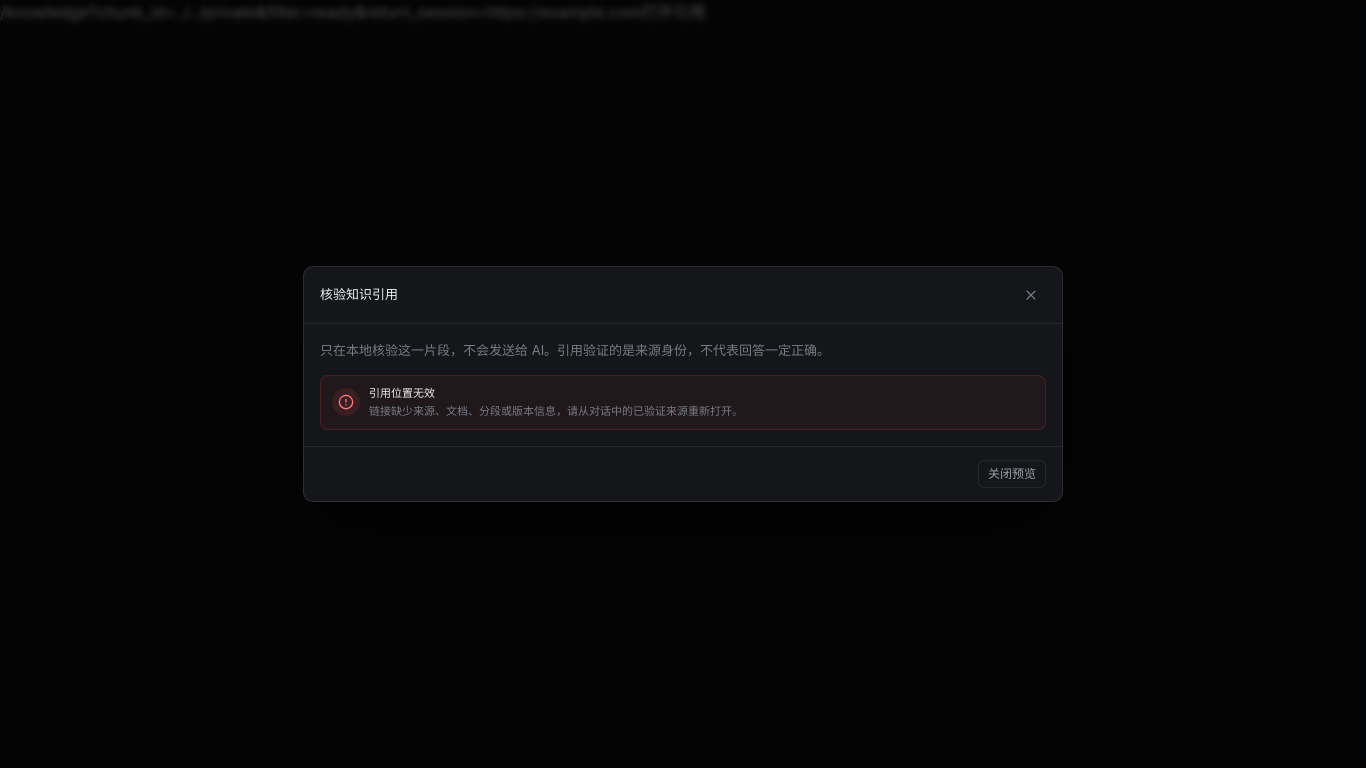
Scenario: knowledge citation preview › blocks invalid links without reading and preserves unrelated URL parameters when closing
Expected: the text "引用位置无效" is shown, [369,386,435,400]
What coordinates should you click on to do the following:
click the button "关闭预览"
I would click on:
 (1012, 474)
Its box is [978,460,1046,488].
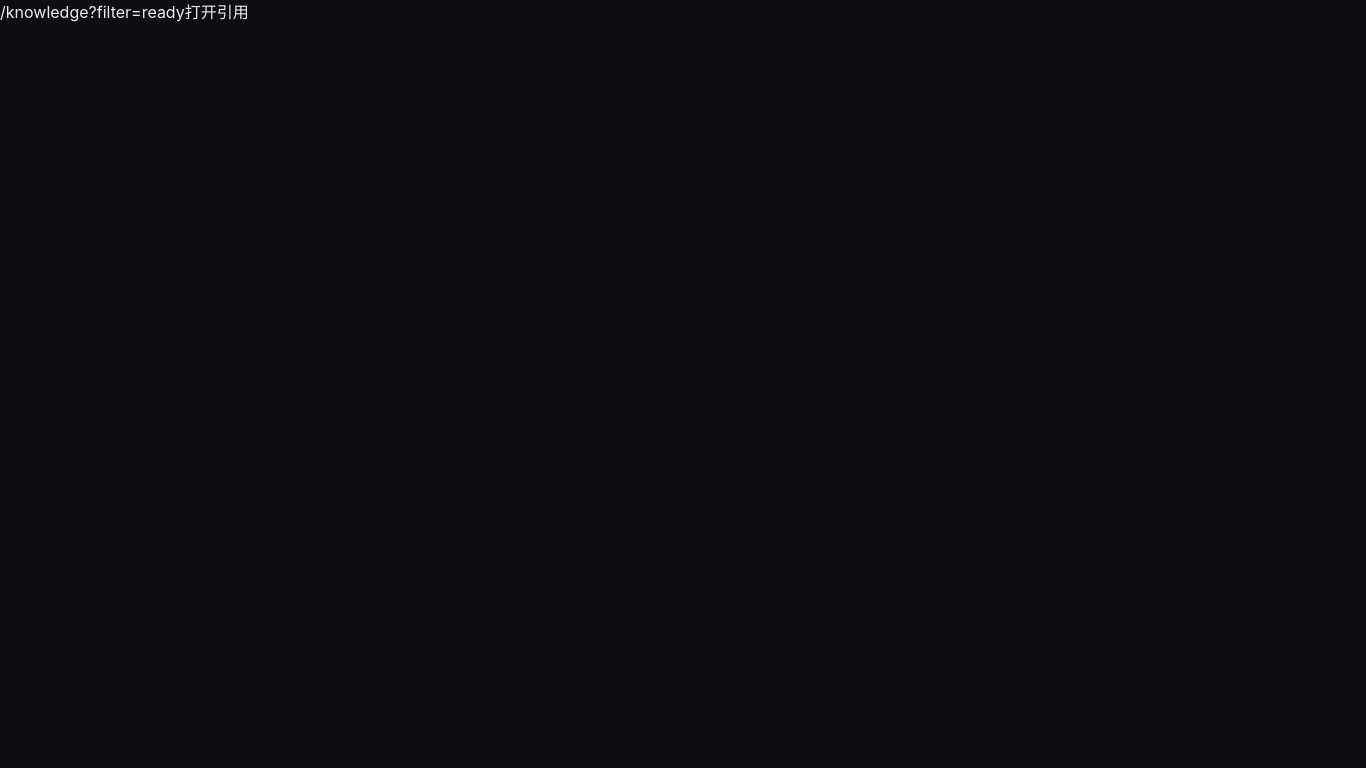
Expected: the dialog is gone
Expected: the text named "current route" reads "/knowledge?filter=ready", [0,2,185,22]
